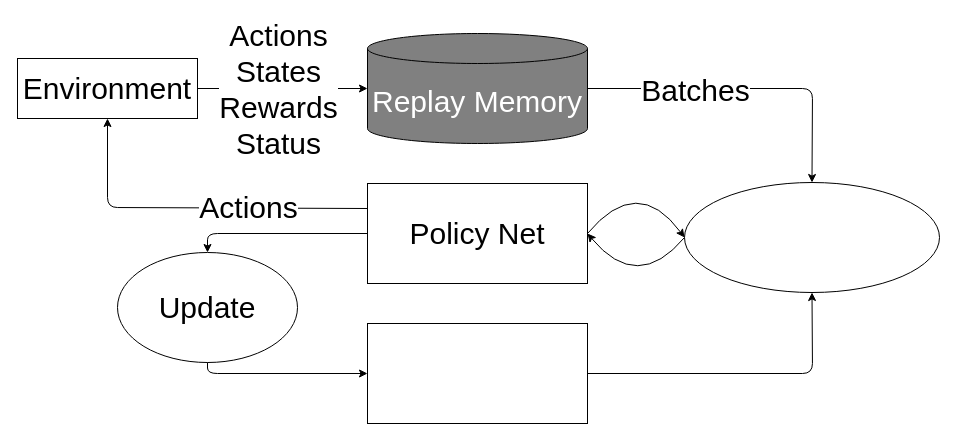
The diagram is 957 pixels wide and 441 high, and some of its shapes have lost their labels. The centre of each missing label's shape, as x and y in pixels:
Adam Optimization: pixel 812 237
Target Net: pixel 477 373
